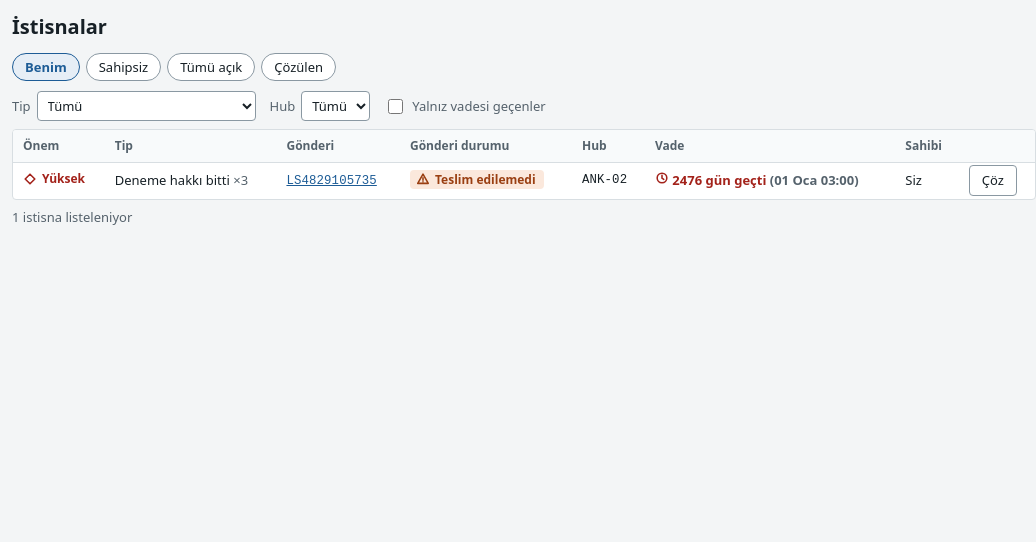
Test: istisna kuyruğu › çözümde yalnız tipe izinli kodları sunar; 412'de kuyruğu yeniler, uyarır ve yazılan notu korur
The image size is (1036, 542).
Click the button with aria-label "Çöz:" at (993, 180), box [969,165,1017,196]
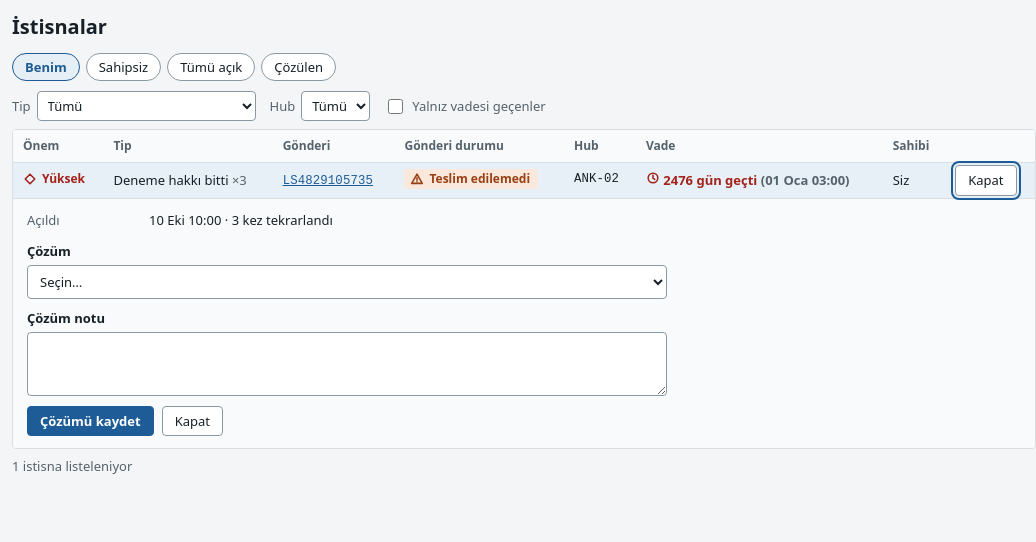
Click the button "Çözümü kaydet" at (90, 421), box [27,406,154,436]
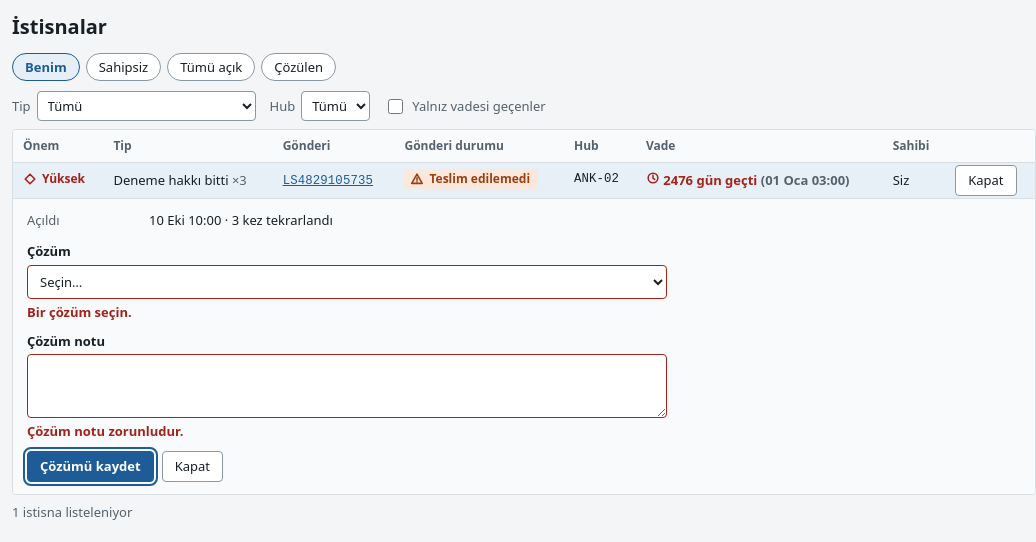
Expected: the text "Bir çözüm seçin." is shown, [27,303,132,321]
Select "Ek teslimat denemesi onayla" in the dropdown labelled "Çözüm" at (347, 282), box [27,265,667,299]
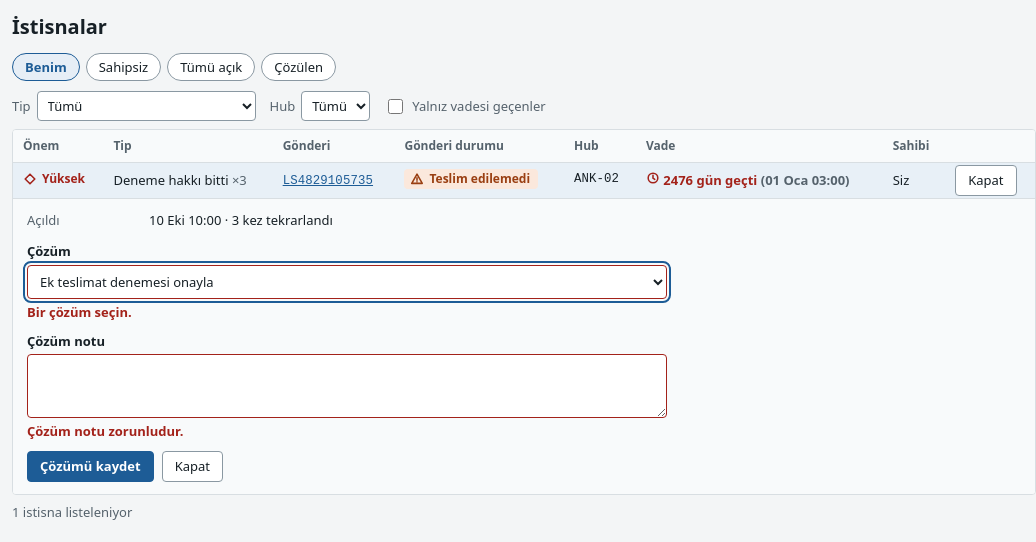
Type "Alıcı arandı, yarın evde" into the text box labelled "Çözüm notu" at (347, 386), box [27,354,667,418]
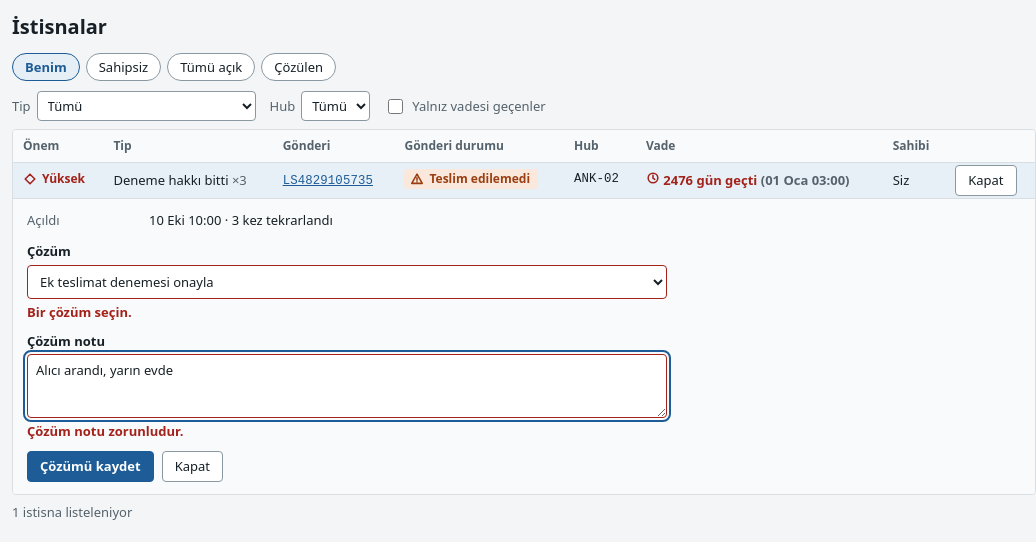
Click the button "Çözümü kaydet" at (90, 467), box [27,451,154,482]
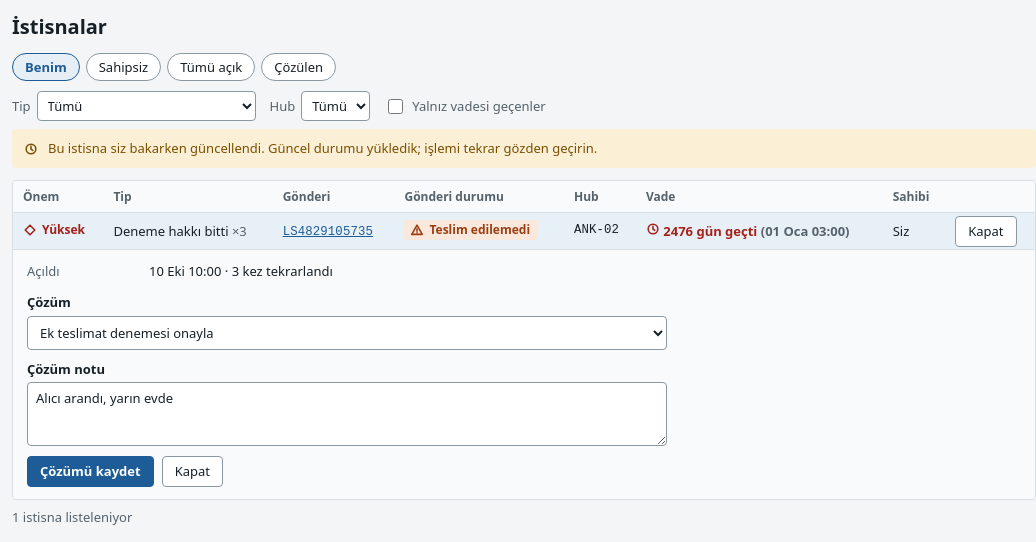
Expected: the text "Bu istisna siz bakarken güncellendi" is shown, [48,139,597,157]
